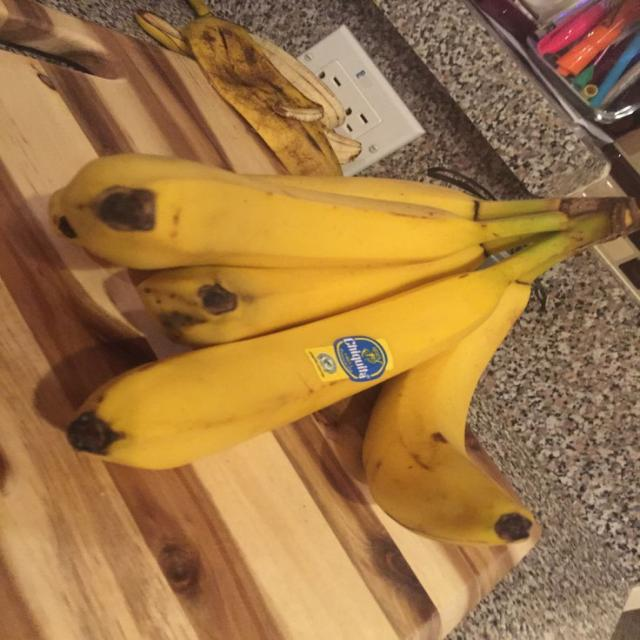unpeal banana: (68, 214, 628, 468), (51, 155, 600, 268), (363, 282, 533, 544), (138, 247, 484, 345), (182, 15, 341, 175), (251, 34, 360, 163), (255, 175, 561, 219), (252, 34, 346, 129), (134, 12, 191, 56)
